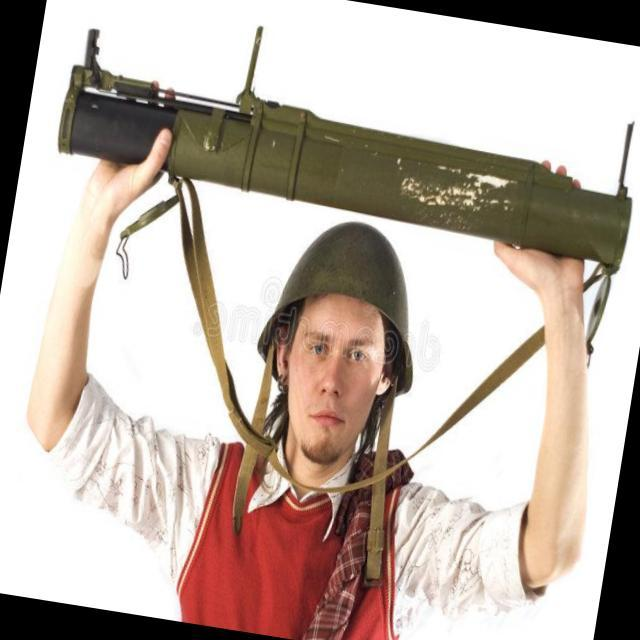rocket: (37, 2, 640, 281)
